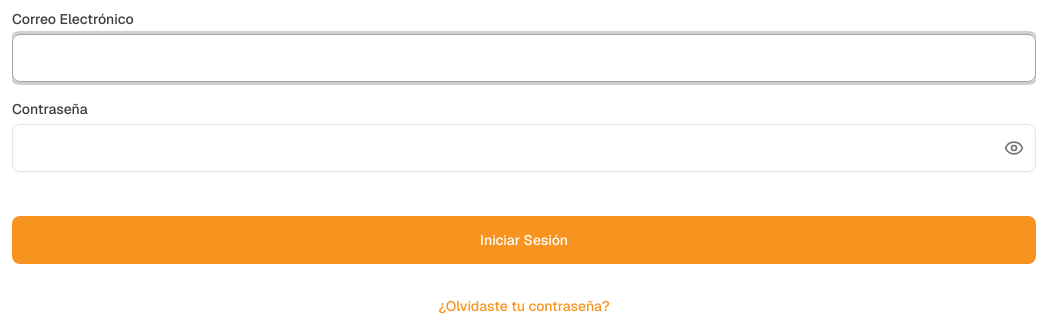
Test: LoginForm › Successful Login › shows loading state during submission
Type "test@example.com" into the field labelled "Correo Electrónico" at (524, 58), box [12,34,1036,82]
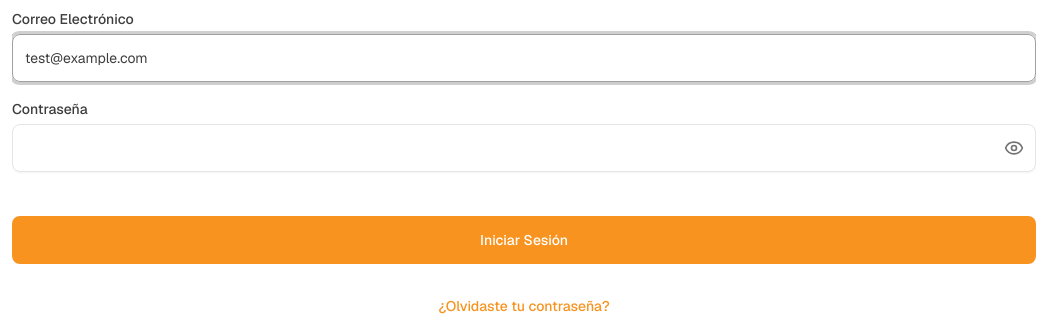
Type "password123" into the password field labelled "Contraseña" at (524, 148), box [12,124,1036,172]
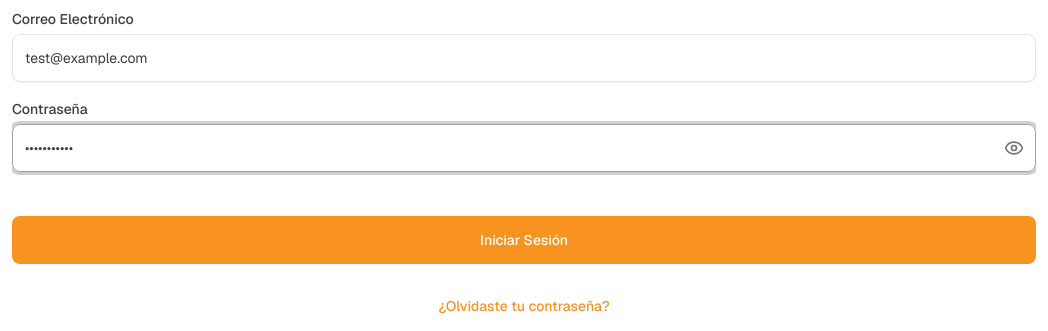
Click the button "Iniciar Sesión" at (524, 240), box [12,216,1036,264]
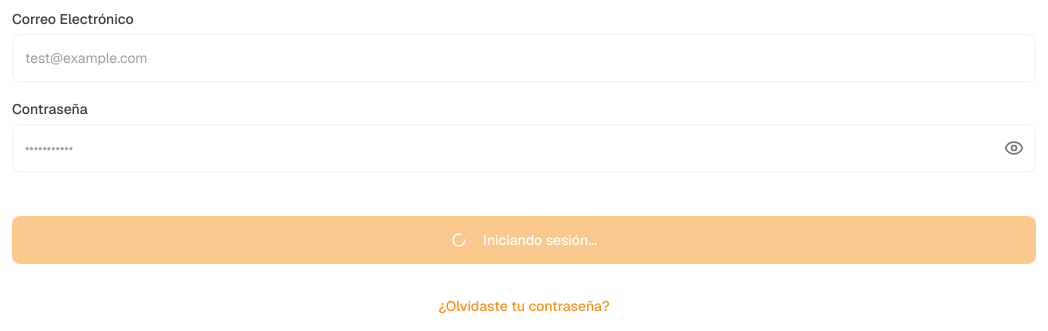
Result: the button "Iniciando sesión..." is shown at [12,216,1036,264]
